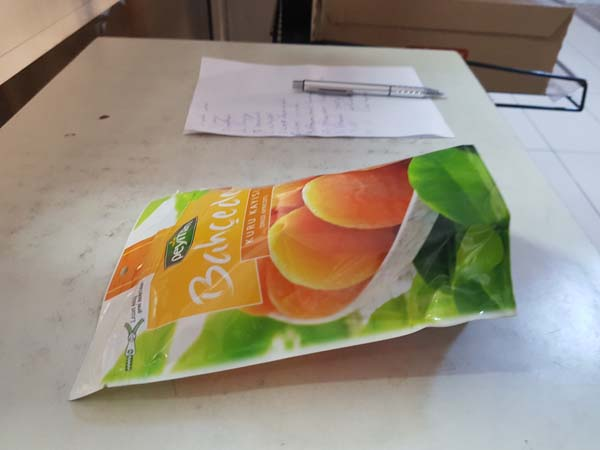bahcedenkurukayisi: (56, 139, 526, 407)
